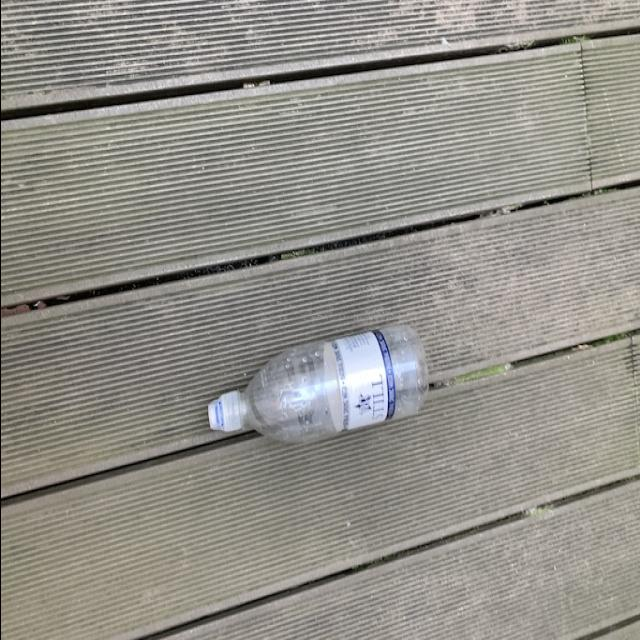PET: (202, 324, 426, 452)
